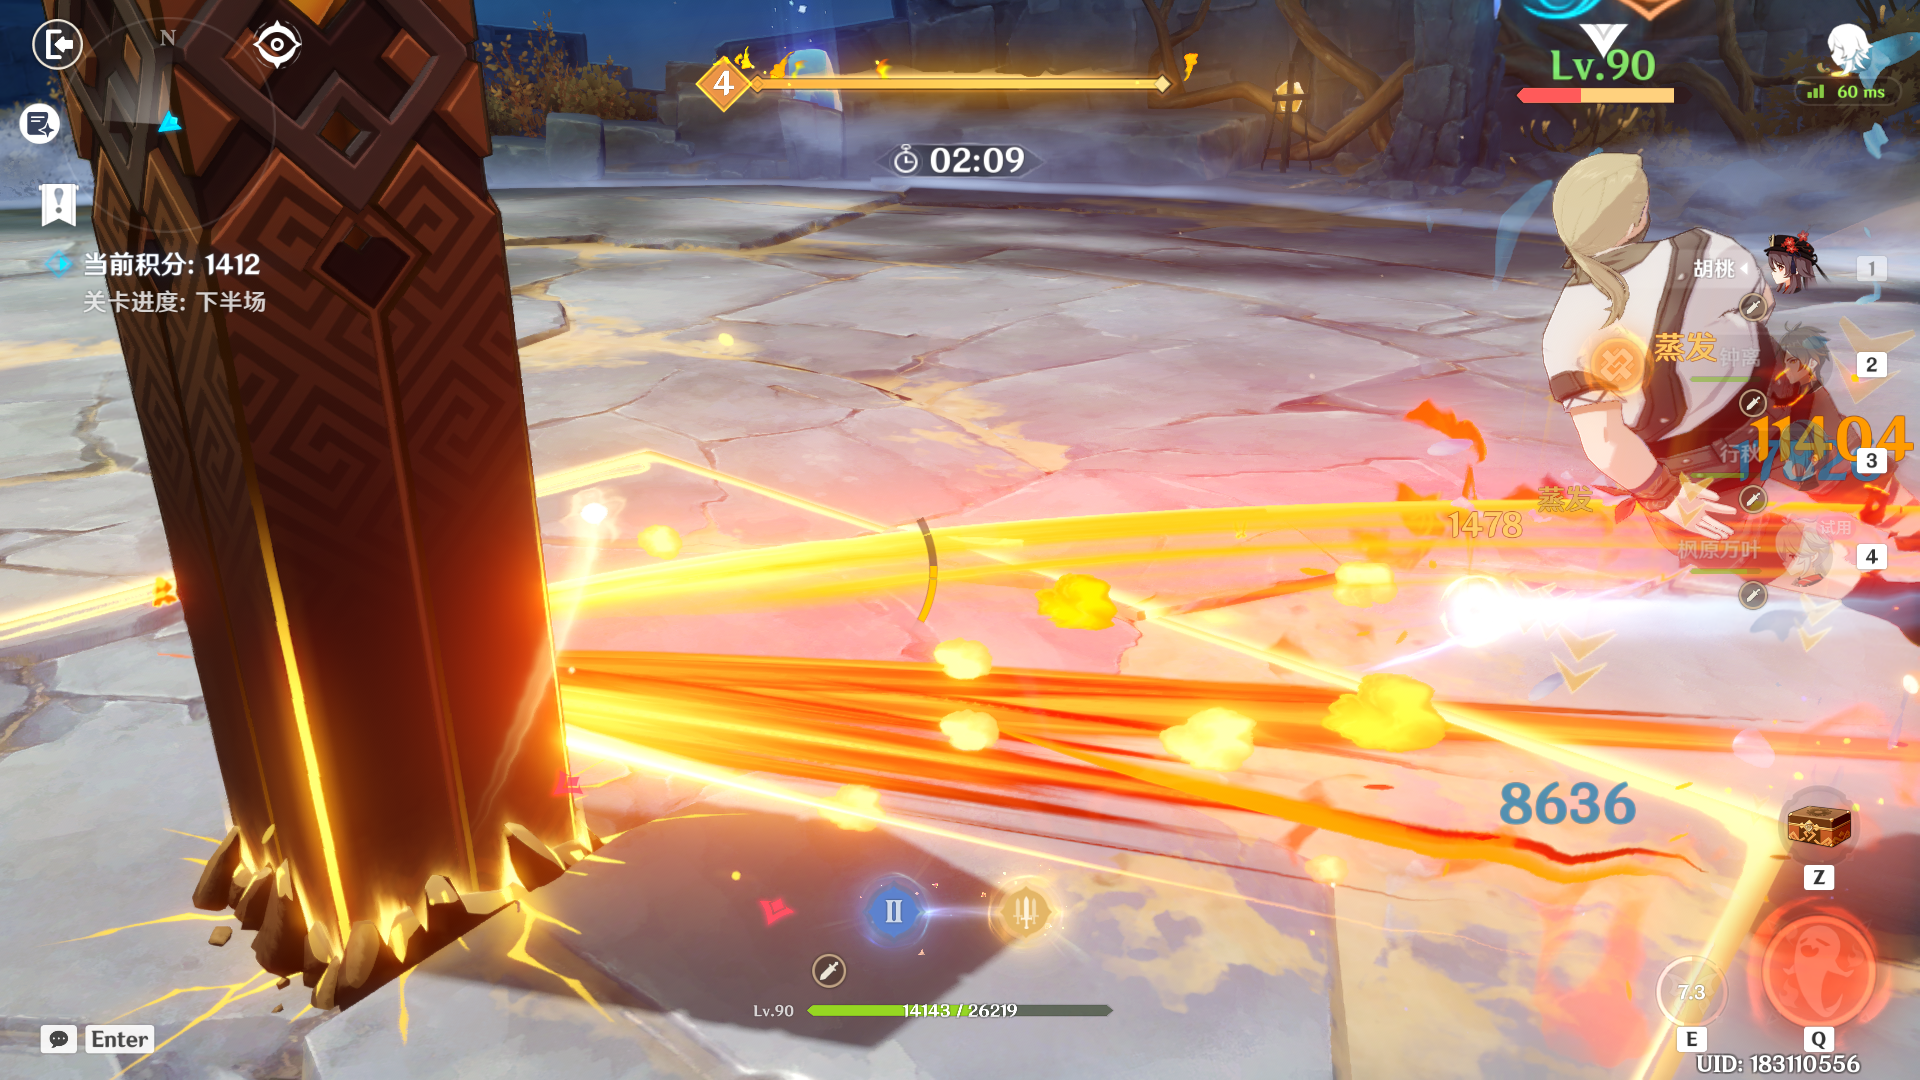robber: (1480, 100, 1920, 632)
